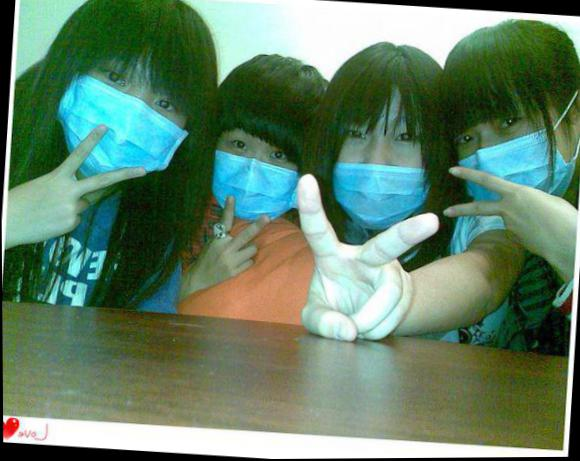OK: (59, 55, 193, 189), (458, 92, 580, 223), (207, 121, 305, 226)
WRONG: (329, 101, 439, 234)
